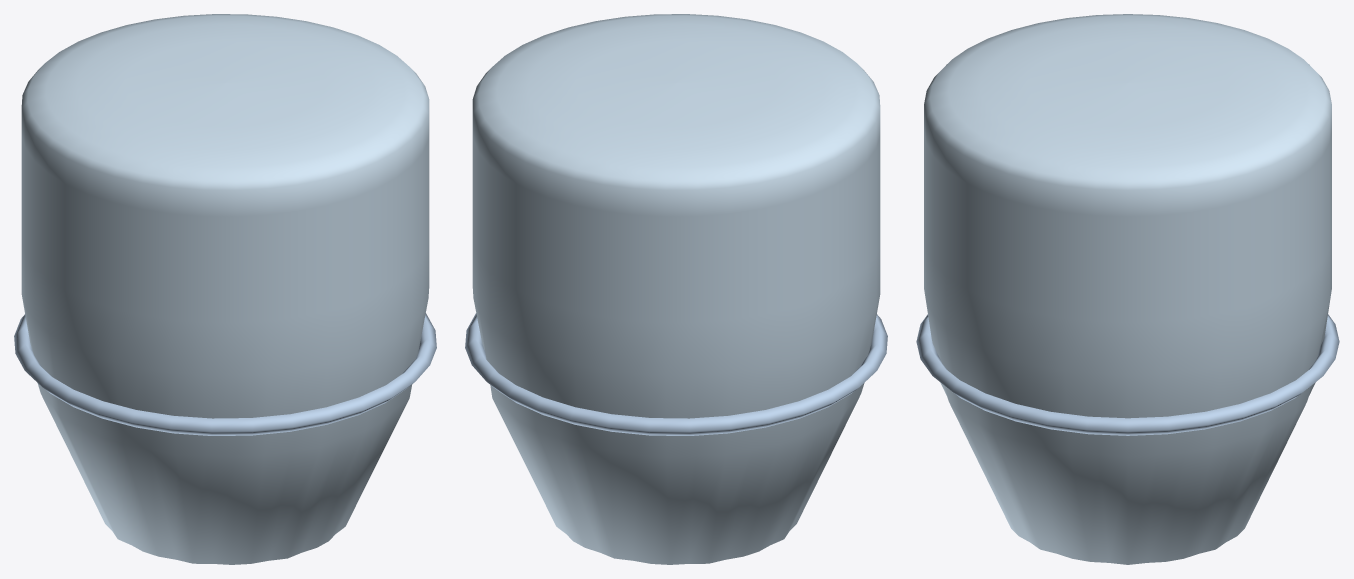
The model's file is shell_girdle_drum.glb.
3 views of the same model, side by side, from view 1: azimuth 30°, elevation 25°; view 2: azimuth 150°, elevation 25°; view 3: azimuth 270°, elevation 25° (orthographic).
Parts seen in each view (by area): view 1: ShellGirdleDrum; view 2: ShellGirdleDrum; view 3: ShellGirdleDrum.
Part boxes in pixels (x1=…): ShellGirdleDrum: x1=14, y1=14, x2=436, y2=564; ShellGirdleDrum: x1=465, y1=14, x2=887, y2=564; ShellGirdleDrum: x1=916, y1=14, x2=1339, y2=564.
Bounding box in the file's own units: 2.18 × 2.59 × 2.18.
